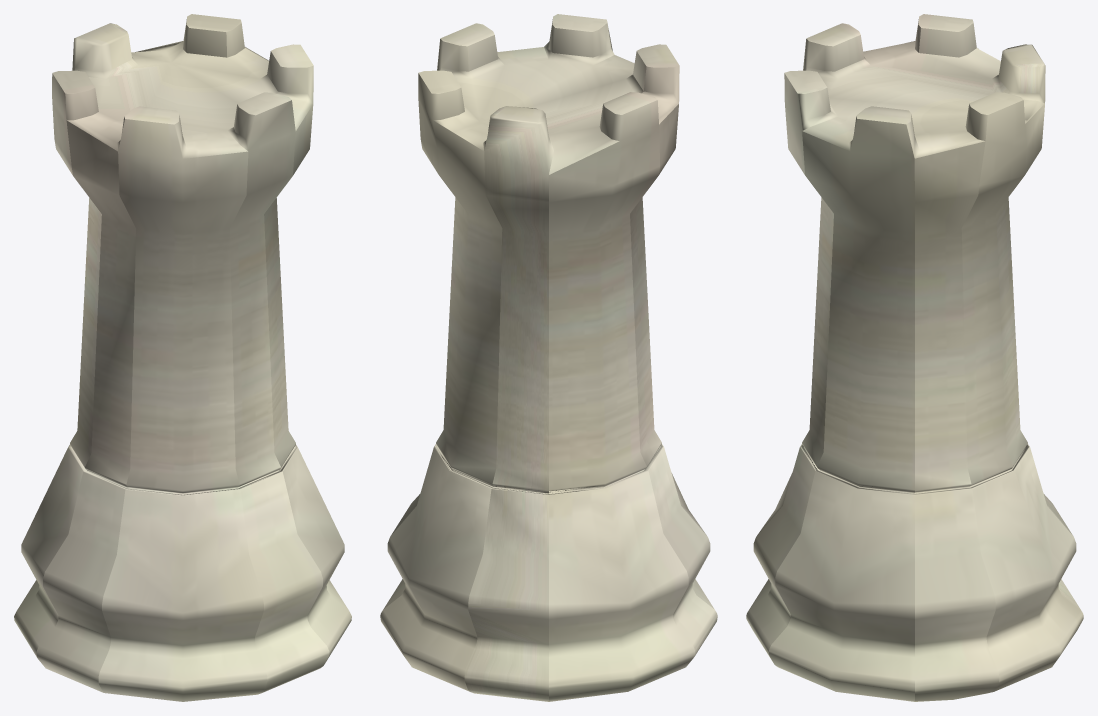
File: Rook.obj
3 renders of one model, left to right at view 1: azimuth 30°, elevation 25°; view 2: azimuth 150°, elevation 25°; view 3: azimuth 270°, elevation 25°, orthographic.
Parts seen in each view (by area): view 1: Rook; view 2: Rook; view 3: Rook.
Part boxes in pixels (box(x1,y1,x2,y2)): Rook: box(14, 14, 351, 701); Rook: box(380, 14, 717, 701); Rook: box(746, 14, 1083, 701).
Bounding box in the file's own units: 12.52 × 23.59 × 12.53.
Materials: 1 (1 with a texture image).
